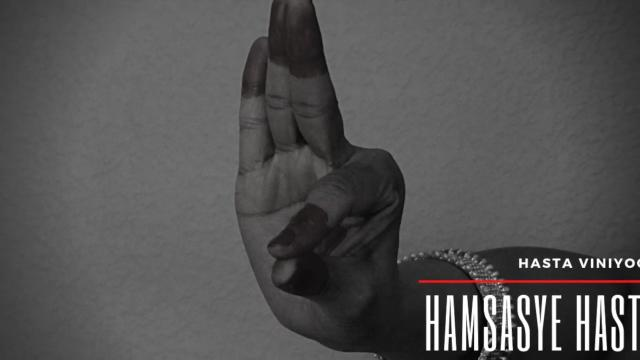hansaasya: (221, 5, 425, 344)
